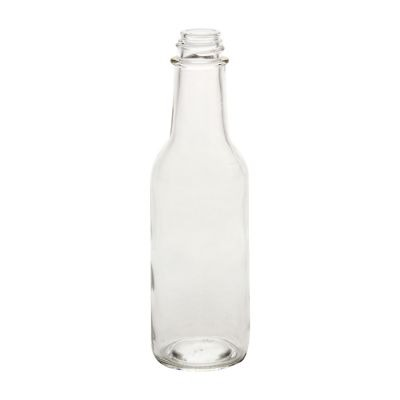container: (147, 27, 254, 371)
